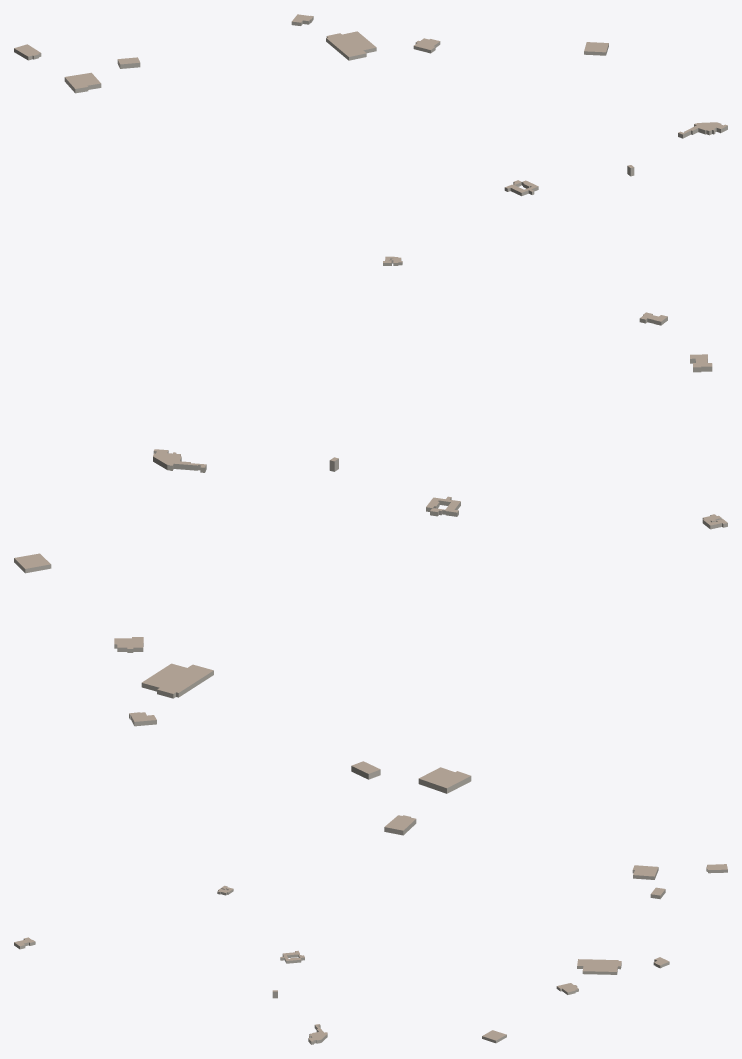
3 views of the same model, one above another, from view 1: azimuth 30°, elevation 25°; view 2: azimuth 150°, elevation 25°; view 3: azimuth 270°, elevation 25° (orthographic). The views are drawn at different scales.
Size of the model in its own units: 1387 by 28.36 by 2347.
